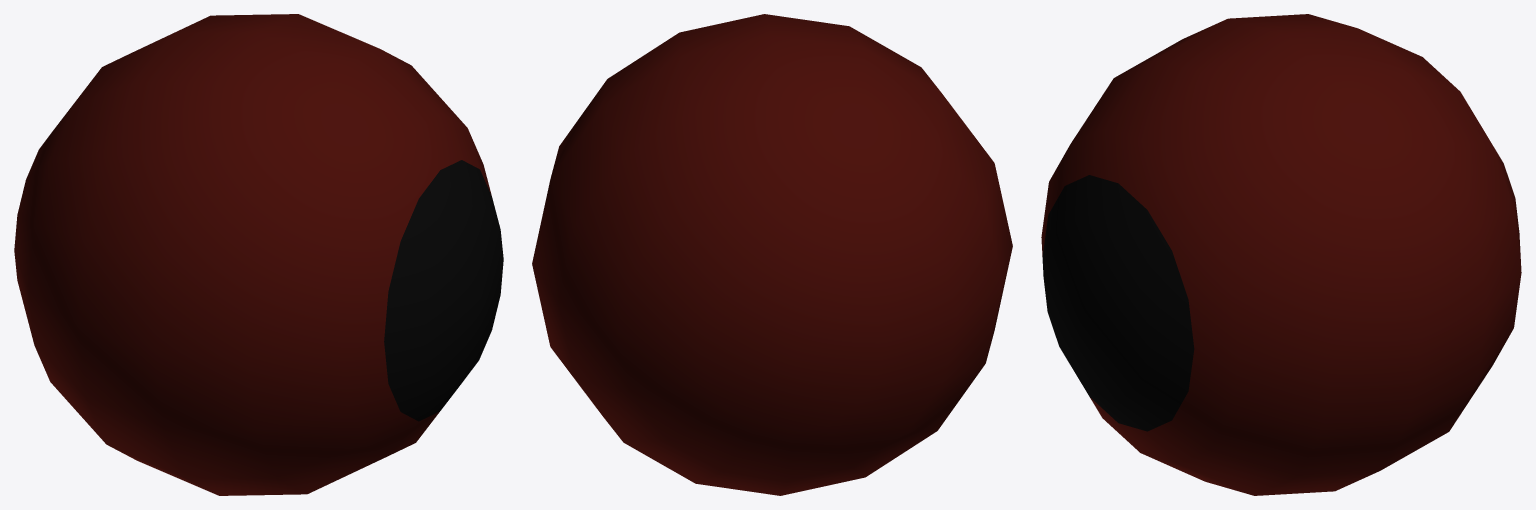
The model's file is possum_eye.obj.
The picture shows the model from 3 angles, left to right: view 1: azimuth 30°, elevation 25°; view 2: azimuth 150°, elevation 25°; view 3: azimuth 270°, elevation 25°; orthographic projection.
Parts seen in each view (by area): view 1: eye; view 2: eye; view 3: eye.
Part boxes in pixels (bbox=[...]): eye: bbox=[14, 14, 503, 495]; eye: bbox=[532, 14, 1012, 495]; eye: bbox=[1041, 14, 1521, 495].
Size of the model in its own units: 0.0242 by 0.0246 by 0.0242.
